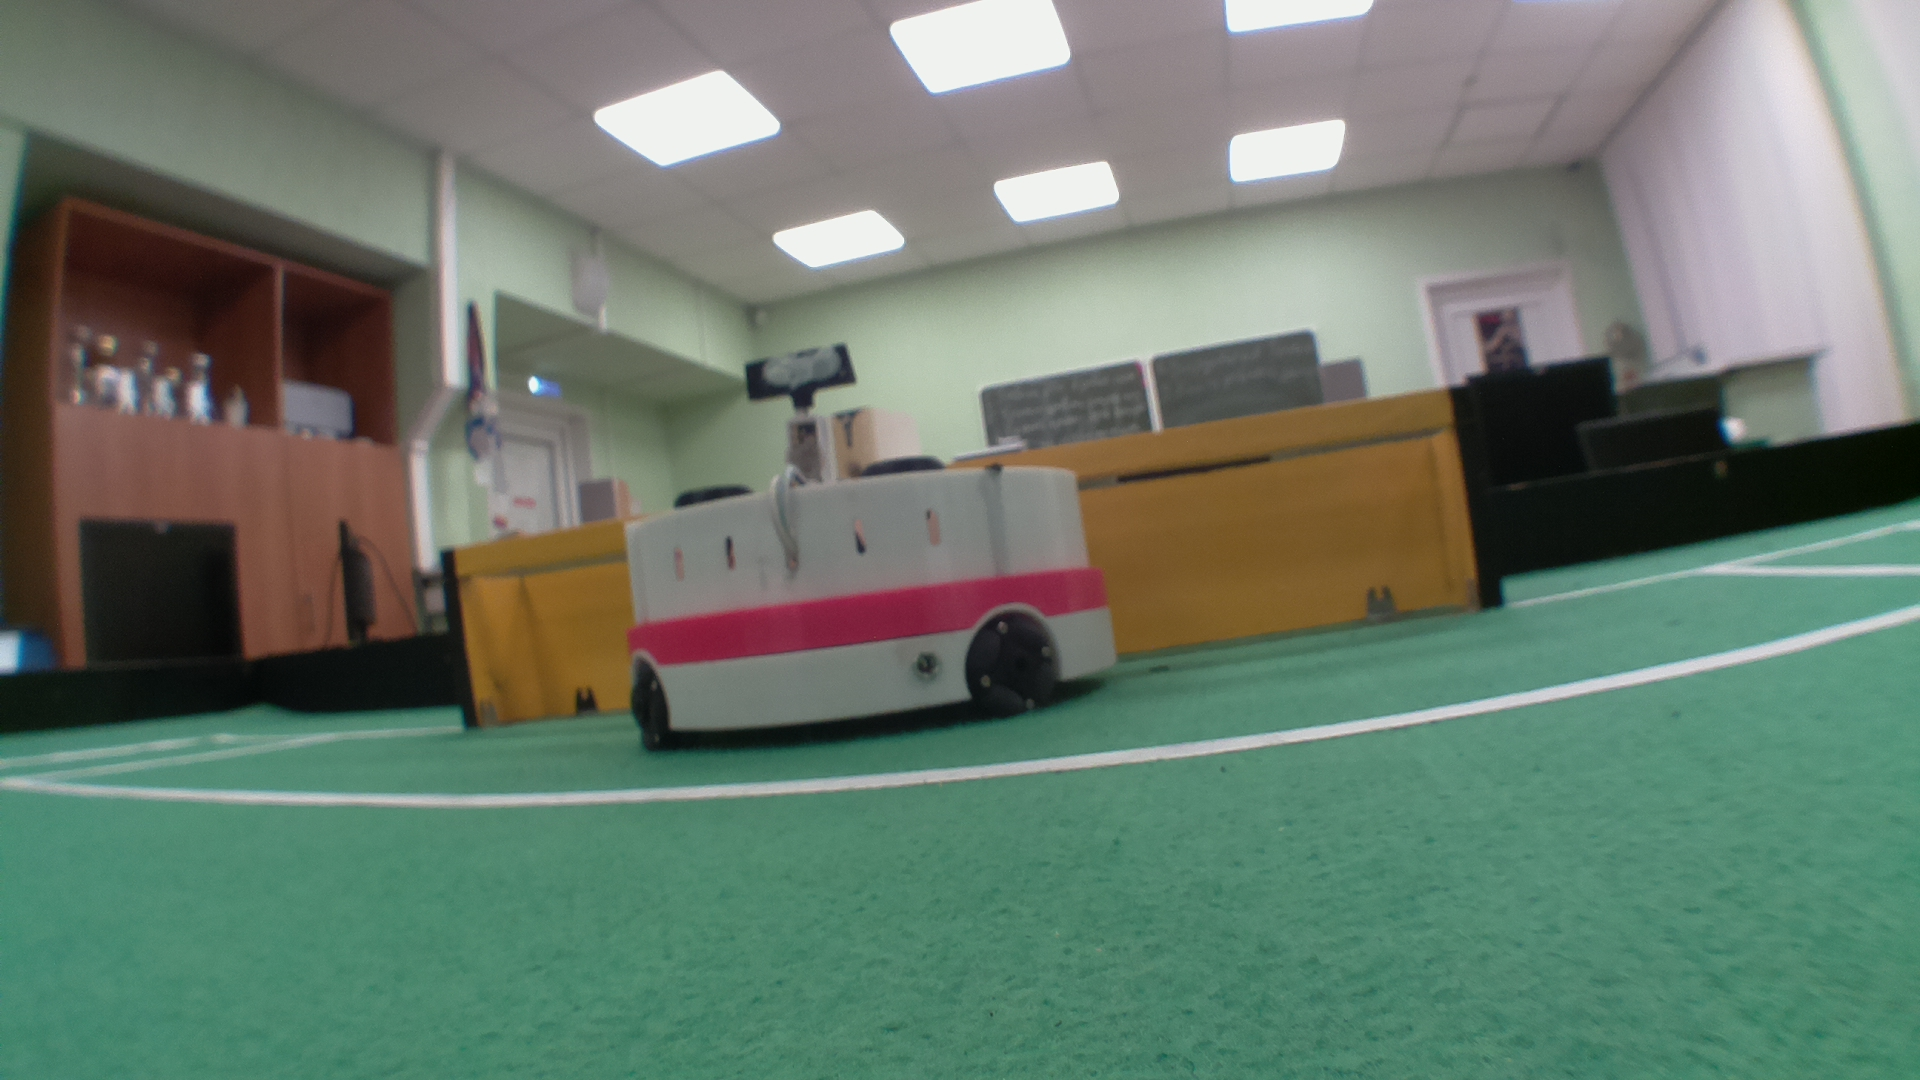YellowGoal: (467, 388, 1457, 731)
